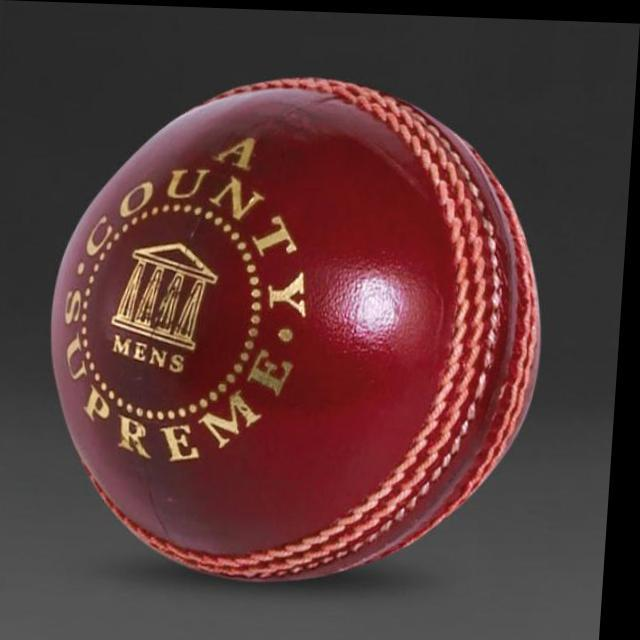cricket ball: (56, 74, 546, 581)
